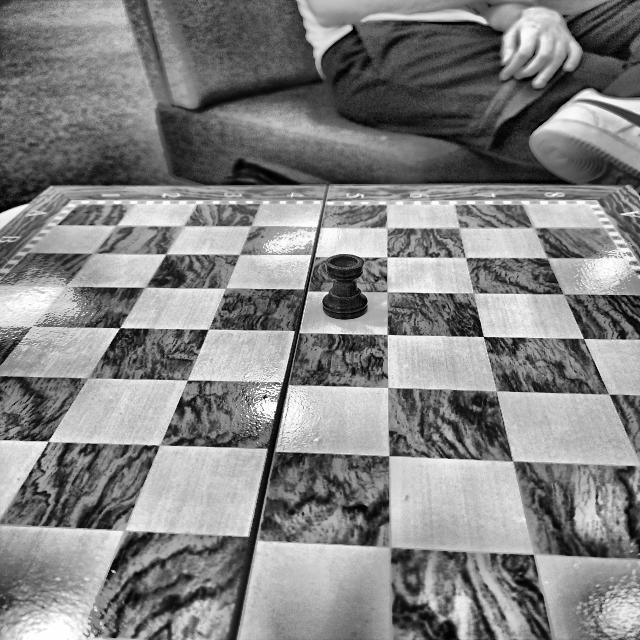black-rook: (322, 253, 368, 319)
